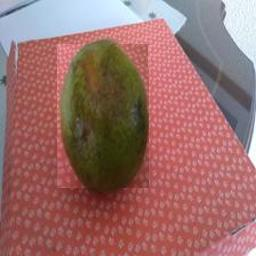Orange Semirotten: (58, 44, 150, 188)
